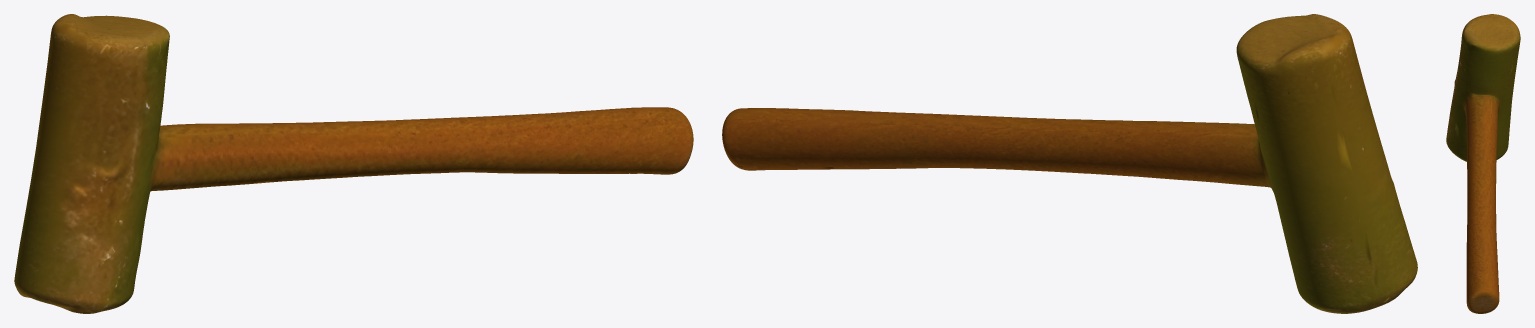
3 views of the same model, side by side, from view 1: azimuth 30°, elevation 25°; view 2: azimuth 150°, elevation 25°; view 3: azimuth 270°, elevation 25° (orthographic). The views are drawn at different scales.
Visible parts, largest first — view 1: node_0; view 2: node_0; view 3: node_0.
Boxes of the visible parts, box(x1,y1,x2,y2) form: node_0: box(14, 14, 693, 313); node_0: box(722, 14, 1417, 313); node_0: box(1446, 14, 1520, 313).
Bounding box in the file's own units: 1.15 × 0.4621 × 0.2098.
1 material, 1 textured.
